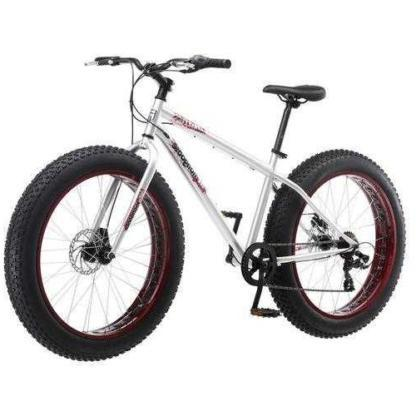Bicycle: (0, 6, 415, 359)
